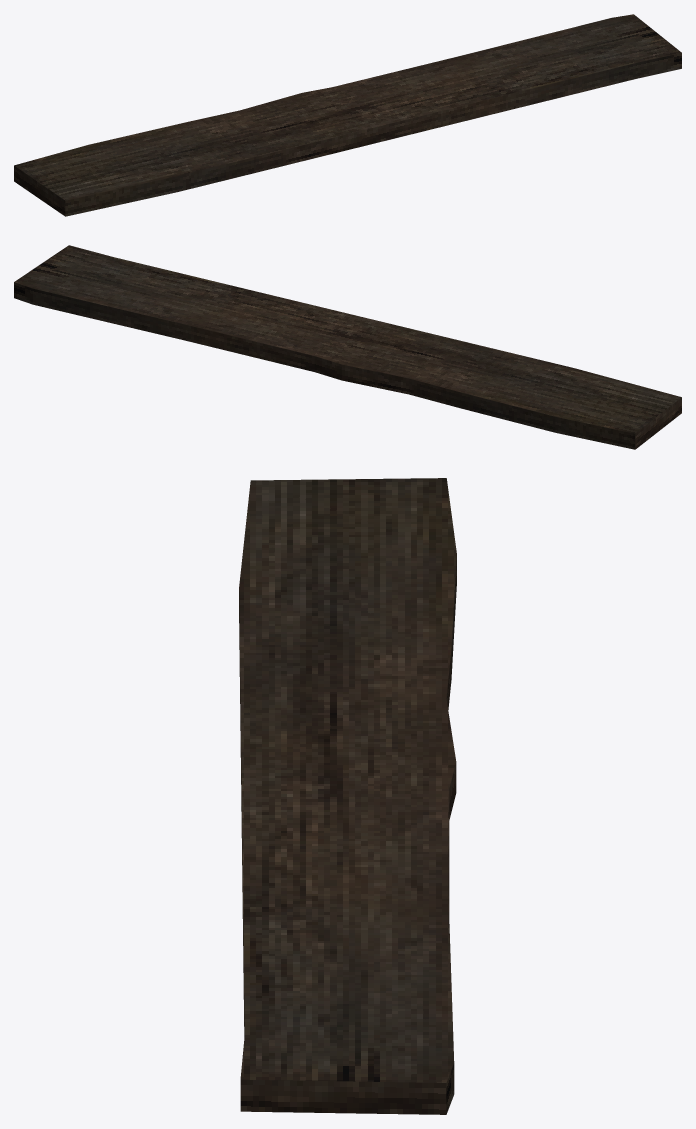
File: wooden_plank_2.glb
3 views of the same model, one above another, from view 1: azimuth 30°, elevation 25°; view 2: azimuth 150°, elevation 25°; view 3: azimuth 270°, elevation 25° (orthographic). The views are drawn at different scales.
Parts seen in each view (by area): view 1: wooden_plank_2; view 2: wooden_plank_2; view 3: wooden_plank_2.
Part boxes in pixels (box(x1,y1,x2,y2)): wooden_plank_2: box(14, 14, 681, 216); wooden_plank_2: box(14, 245, 681, 449); wooden_plank_2: box(239, 478, 456, 1114).
Size of the model in its own units: 1.22 by 0.03 by 0.1853.
1 material, 1 textured.
